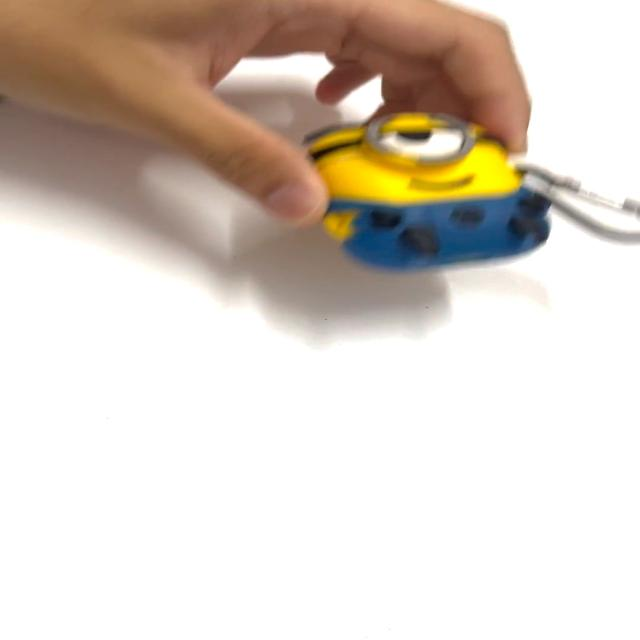airpod minion: (274, 107, 640, 290)
